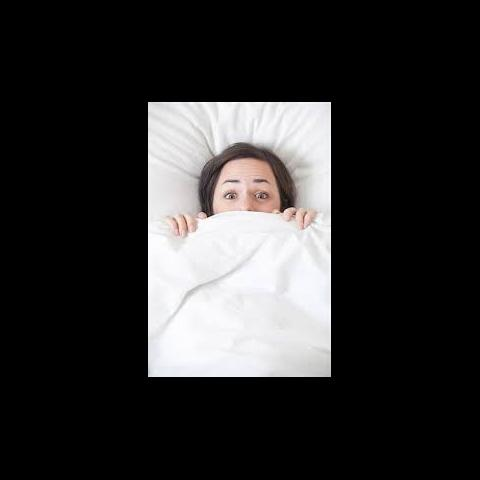opened: (214, 176, 278, 204)
